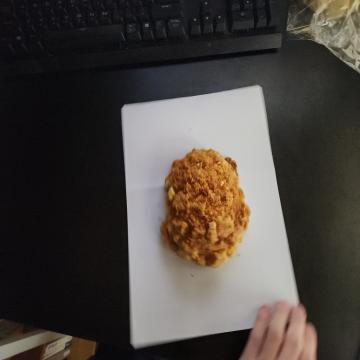soboru_bread: (160, 143, 252, 272)
